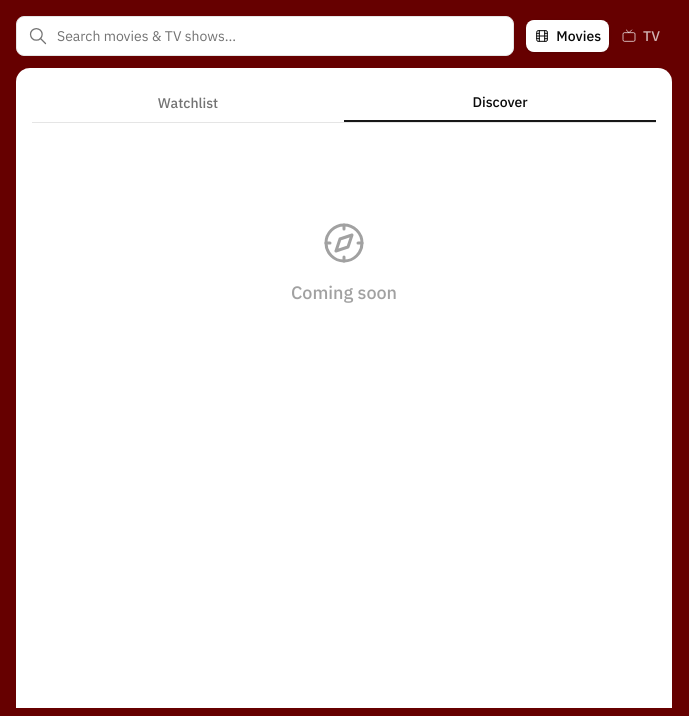
Test case: App › switches to watchlist tab showing empty state
The width and height of the screenshot is (689, 716).
Click the tab "Watchlist": (188, 103) [32, 84, 344, 122]
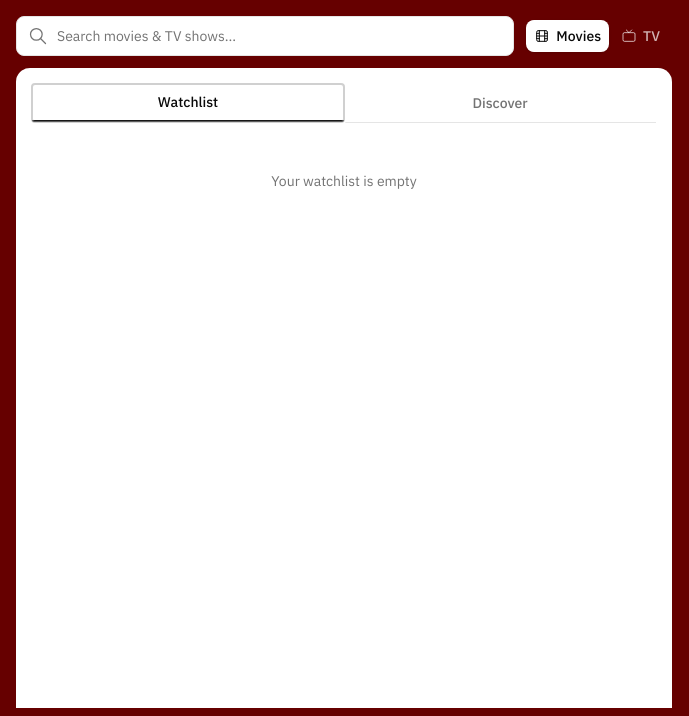
Check: the text "Your watchlist is empty" is shown, box [271, 172, 417, 190]
